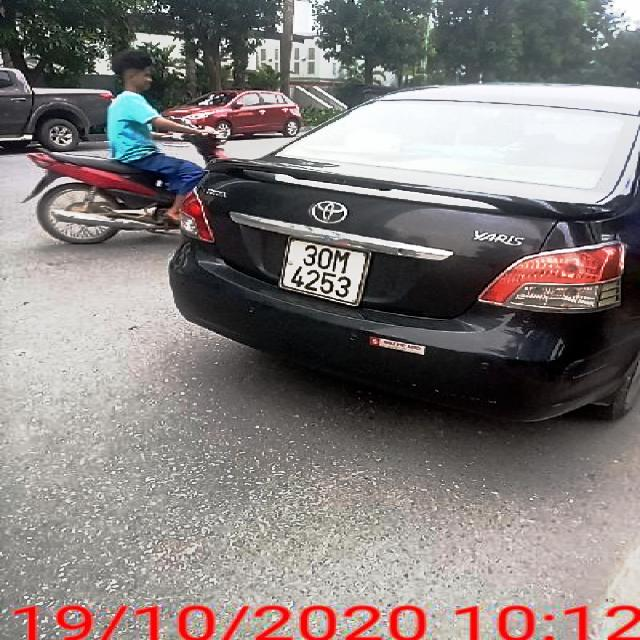license_plate: (280, 240, 368, 307)
